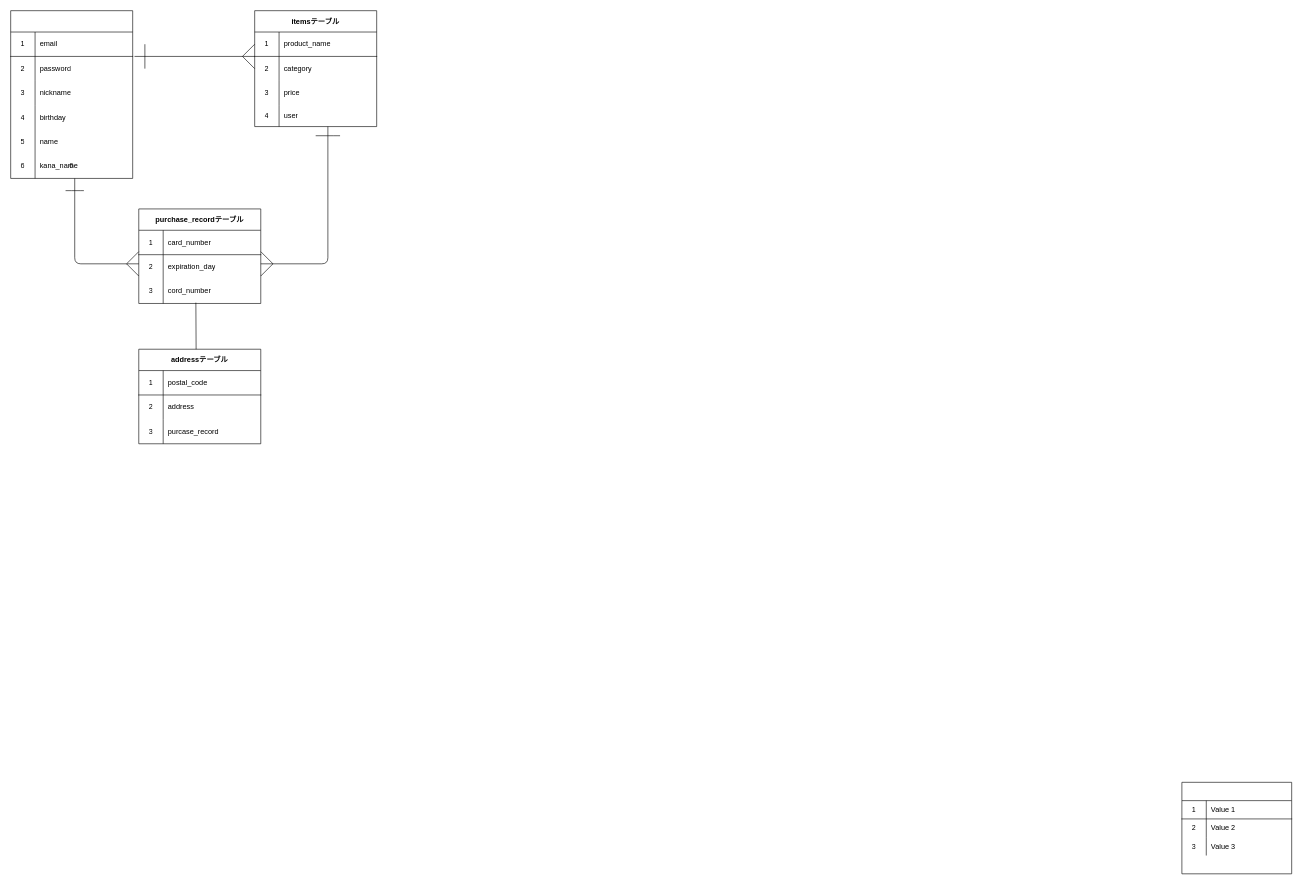
This 1302x885 diagram has some shape labels left out. Each missing label, with the box of its shape:
Table: (1181, 782, 1292, 874)
usersテーブル: (10, 10, 133, 178)
